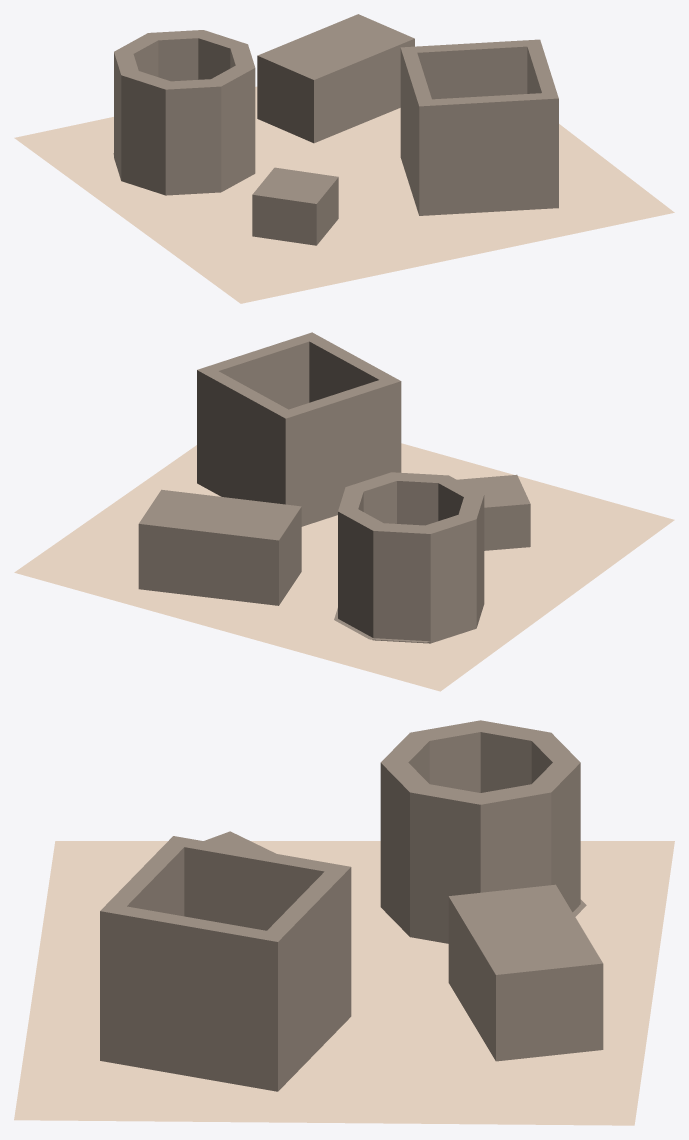
Rendered from cloth_01_mockup.fbx.
3 views of the same model, one above another, from view 1: azimuth 30°, elevation 25°; view 2: azimuth 150°, elevation 25°; view 3: azimuth 270°, elevation 25° (orthographic). The views are drawn at different scales.
Visible parts, largest first — view 1: cloth_01, obj_03, obj_01, obj_02, obj_04; view 2: cloth_01, obj_03, obj_01, obj_02, obj_04; view 3: cloth_01, obj_03, obj_01, obj_02.
Boxes of the visible parts, x1=… form: cloth_01: x1=14, y1=86, x2=674, y2=303; obj_03: x1=400, y1=39, x2=558, y2=215; obj_01: x1=114, y1=30, x2=255, y2=195; obj_02: x1=257, y1=14, x2=414, y2=143; obj_04: x1=252, y1=167, x2=338, y2=245; cloth_01: x1=14, y1=443, x2=674, y2=691; obj_03: x1=197, y1=332, x2=401, y2=526; obj_01: x1=338, y1=472, x2=484, y2=643; obj_02: x1=138, y1=489, x2=301, y2=605; obj_04: x1=457, y1=474, x2=530, y2=550; cloth_01: x1=14, y1=841, x2=674, y2=1125; obj_03: x1=100, y1=836, x2=351, y2=1091; obj_01: x1=380, y1=720, x2=580, y2=943; obj_02: x1=448, y1=884, x2=603, y2=1061.
Bounding box in the file's own units: 0.4078 × 0.4 × 0.1054.
